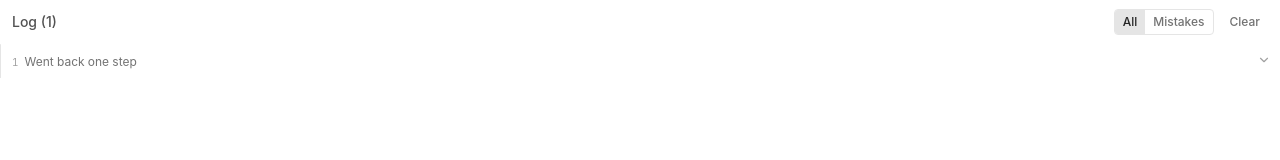
Test: LogList detail lines › separates the subject tile from the evidence behind it at the seam
The width and height of the screenshot is (1280, 160).
Click the button named "Show details".
click(1264, 60)  # box [1252,48,1276,72]
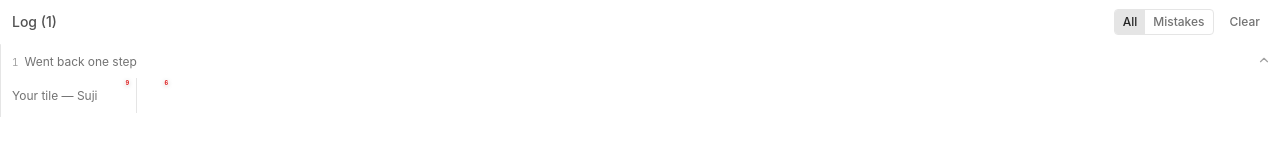
Expected: the number of pictures is 2, [104,78,130,113]; [143,78,169,113]
